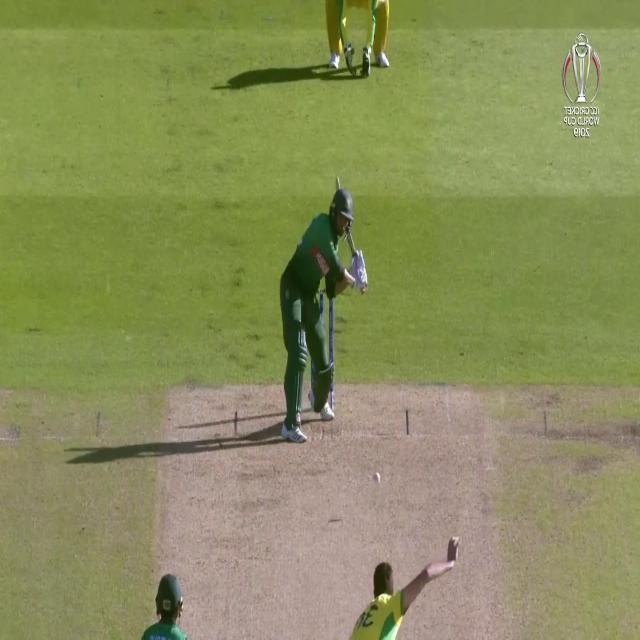ball: (371, 469, 381, 488)
